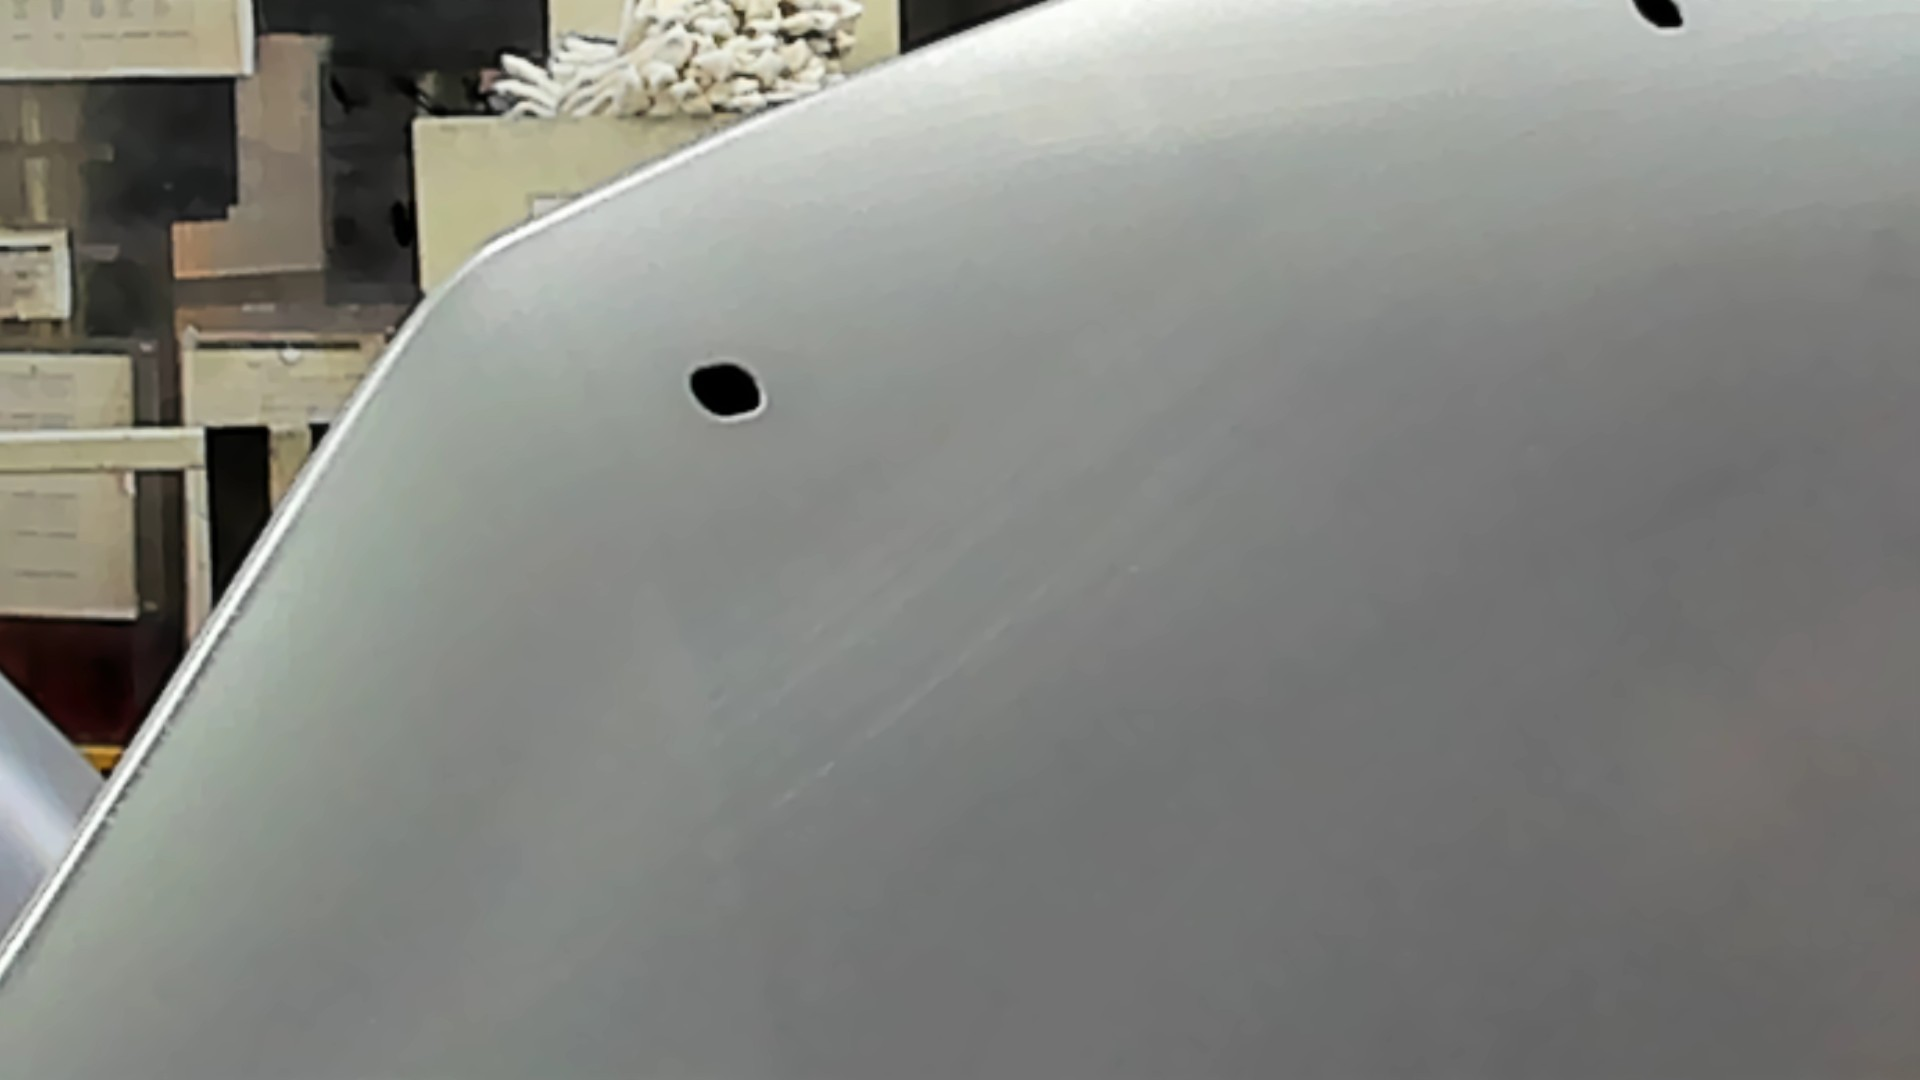amorfo: (686, 359, 771, 422), (1629, 1, 1689, 33)
